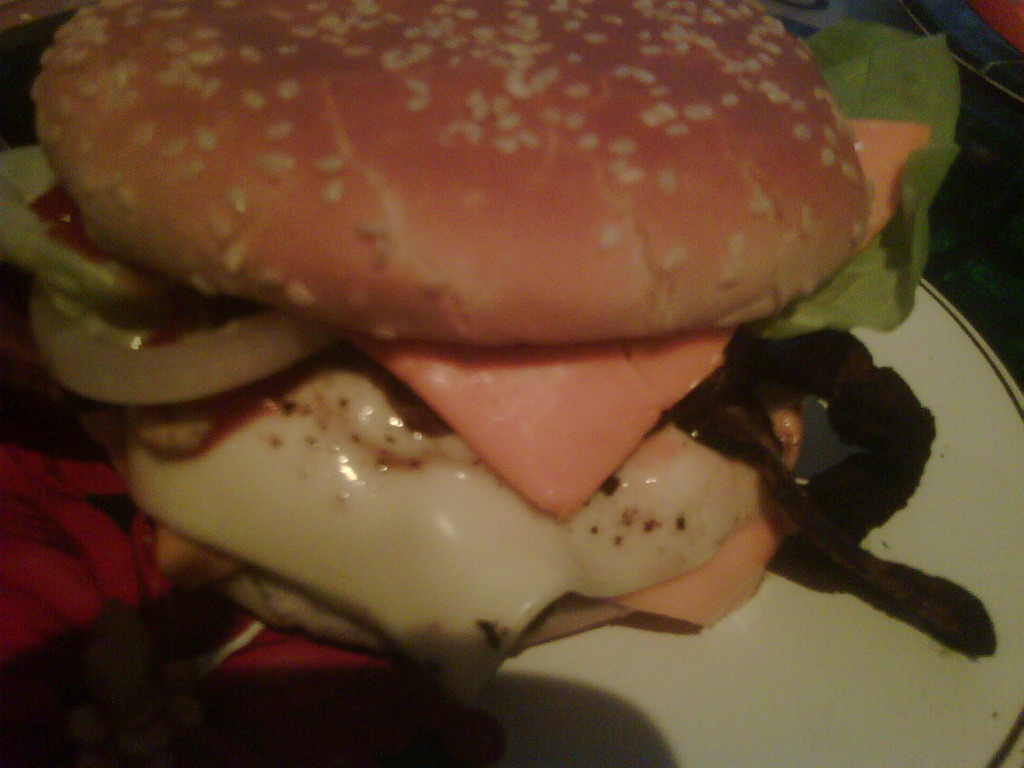Hamburger: (0, 0, 958, 698)
